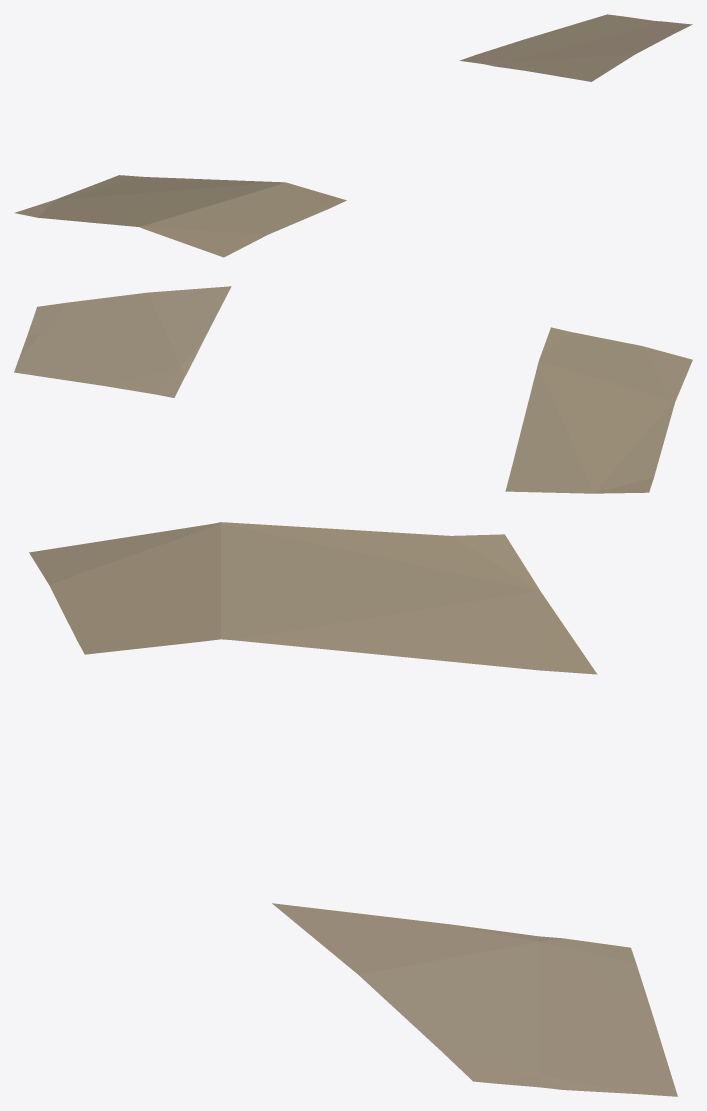
Rendered from farm_10_-1_soil.glb.
The picture shows the model from 3 angles, top to bottom: view 1: azimuth 30°, elevation 25°; view 2: azimuth 150°, elevation 25°; view 3: azimuth 270°, elevation 25°; orthographic projection. The views are drawn at different scales.
Parts seen in each view (by area): view 1: geometry_0; view 2: geometry_0; view 3: geometry_0.
Part boxes in pixels (left/top/right/bottom): geometry_0: left=15, top=14, right=692, bottom=257; geometry_0: left=14, top=286, right=692, bottom=493; geometry_0: left=29, top=522, right=677, bottom=1096.
Size of the model in its own units: 360 by 32.78 by 163.
